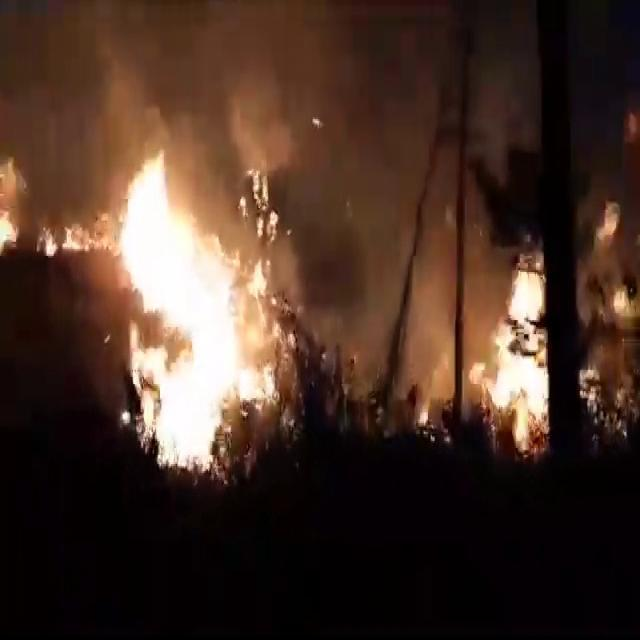Fire: (86, 162, 276, 462), (476, 260, 542, 444), (0, 201, 16, 258)
Smoke: (19, 0, 537, 434)
